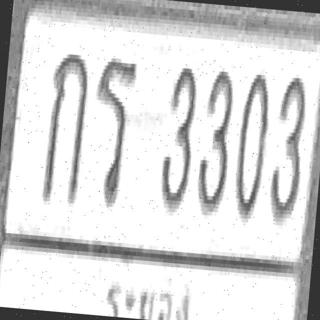A01: (42, 49, 90, 204)
A35: (86, 53, 138, 204)
N00: (232, 70, 272, 220)
N03: (194, 66, 236, 213), (267, 72, 308, 222), (159, 63, 198, 210)
P53: (89, 236, 215, 320)
